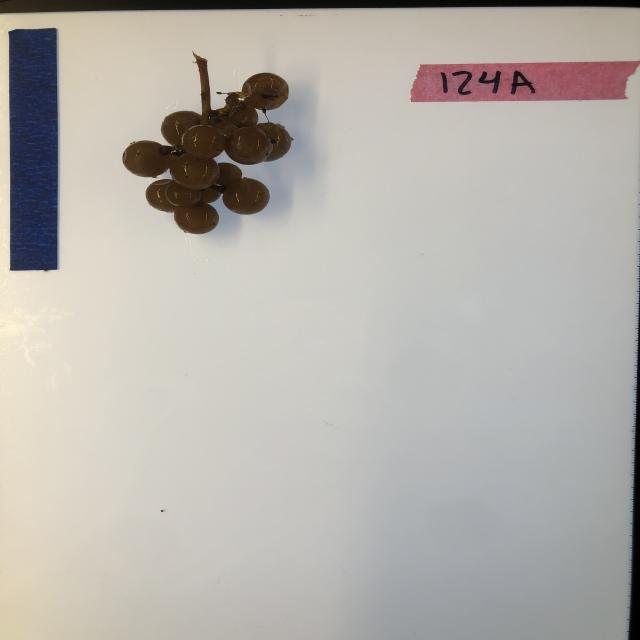grape_cluster: (120, 48, 295, 236)
index: (411, 61, 638, 105)
measure_label: (6, 27, 62, 274)
